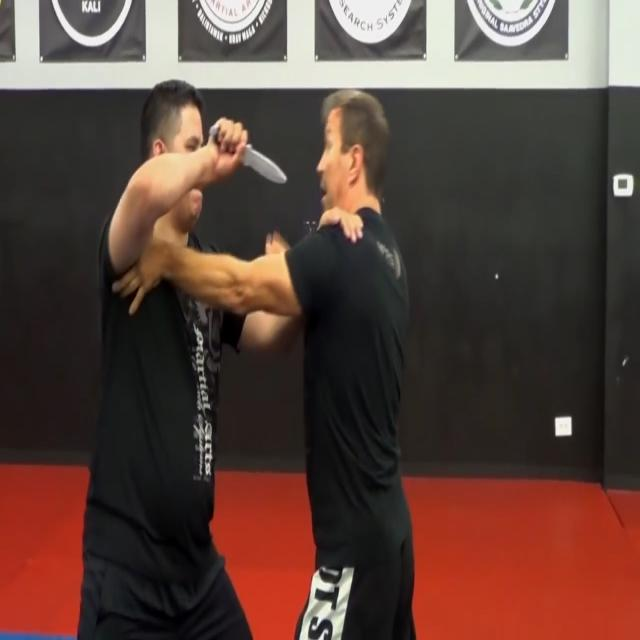knife: (243, 141, 291, 196)
